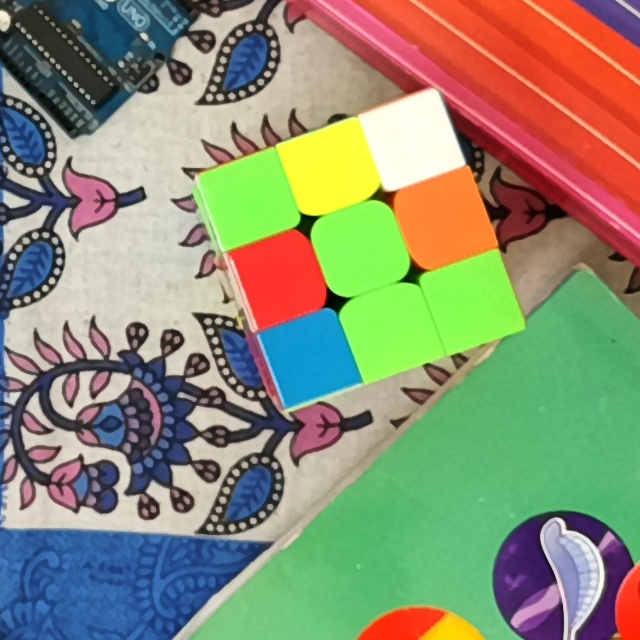tile: (409, 189, 478, 254), (325, 220, 394, 281), (379, 109, 444, 172), (440, 270, 502, 334), (279, 326, 340, 390), (250, 246, 310, 311), (357, 298, 422, 358), (216, 172, 278, 232), (297, 141, 361, 198)
